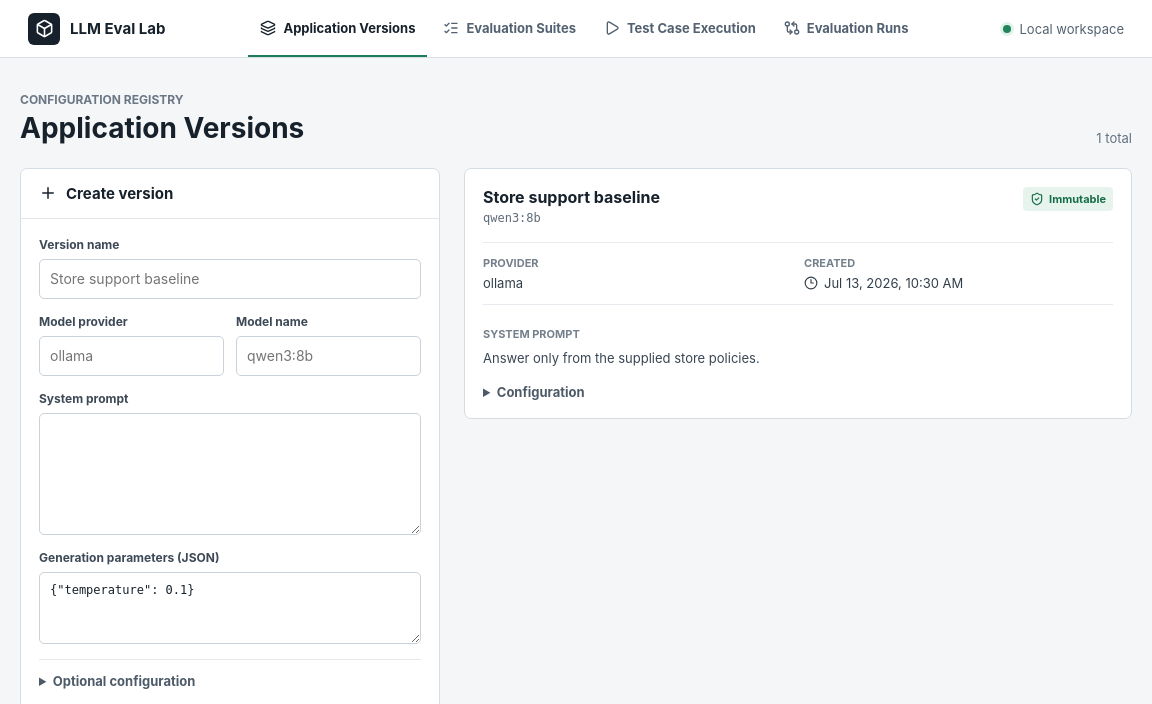
Test: Application Versions › shows every persisted configuration field
Expected: the heading "Store support baseline" is shown, [483,187,660,208]
Click the heading "Configuration". click: (541,392)
box: [497,384,585,400]
(page scrolled)
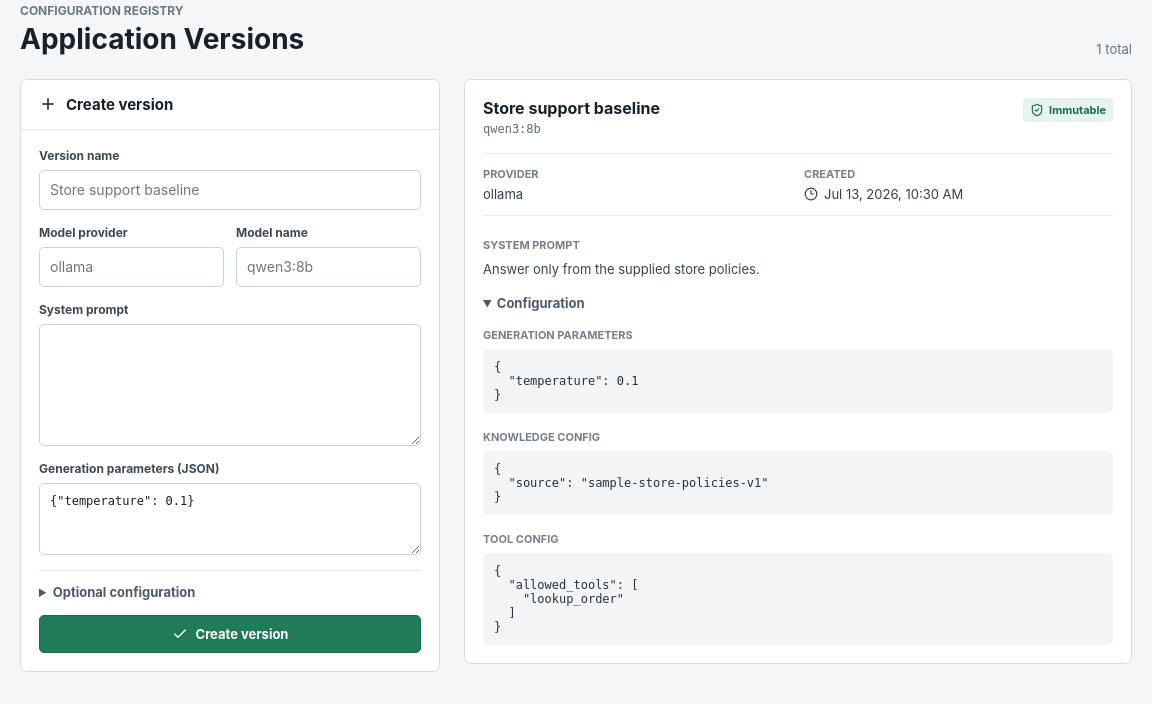
Now the text "Knowledge config" is shown, box [483,430,600,444]
Now the text "{ \"source\": \"sample-store-policies-v1\" }" is shown, box [483,451,1113,515]
Now the text "Tool config" is shown, box [483,532,559,546]
